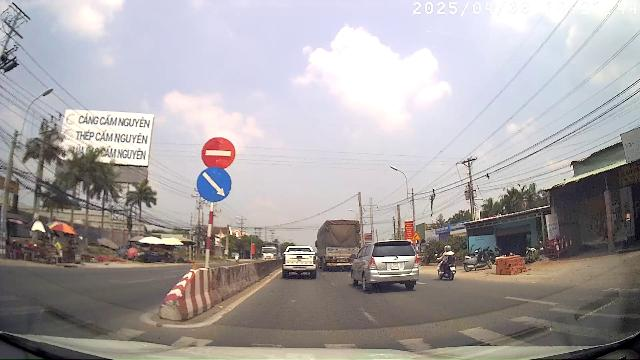102-cam-di-nguoc-chieu: (200, 136, 237, 168)
302a-huong-phai-di-vong-chuong-ngai-vat-1: (196, 167, 233, 203)
